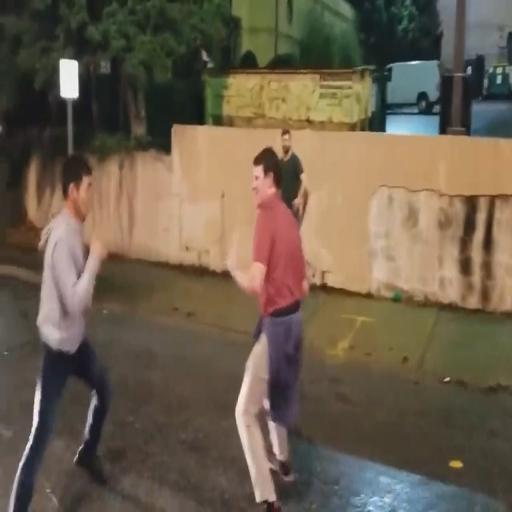violencia: (5, 133, 310, 512)
